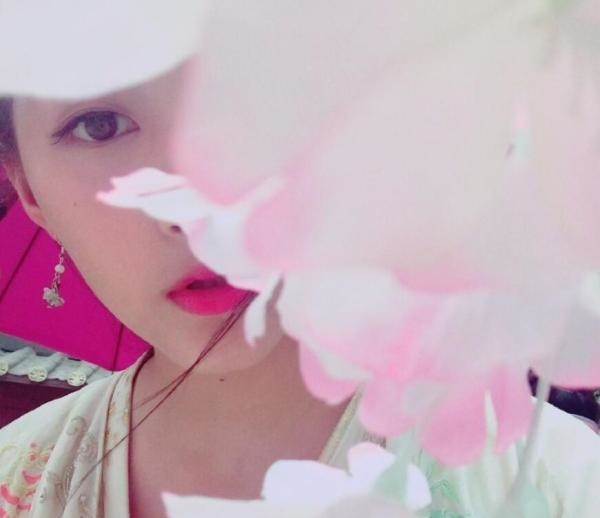face: (12, 27, 317, 374)
